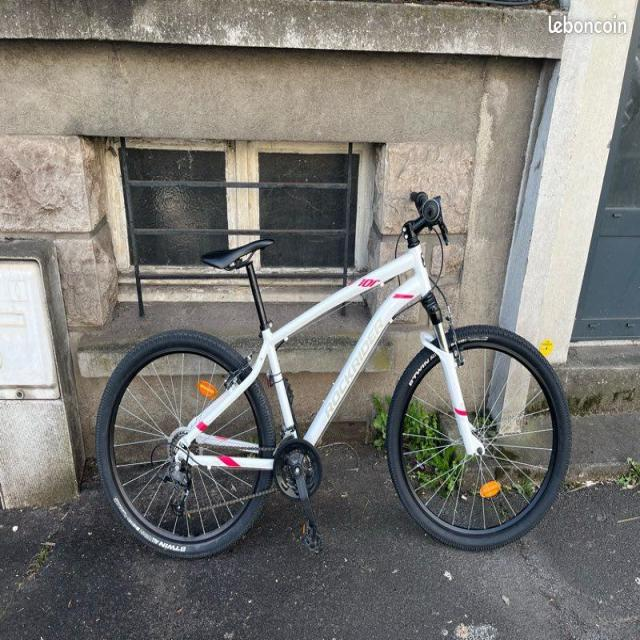Bike: (94, 188, 572, 554)
